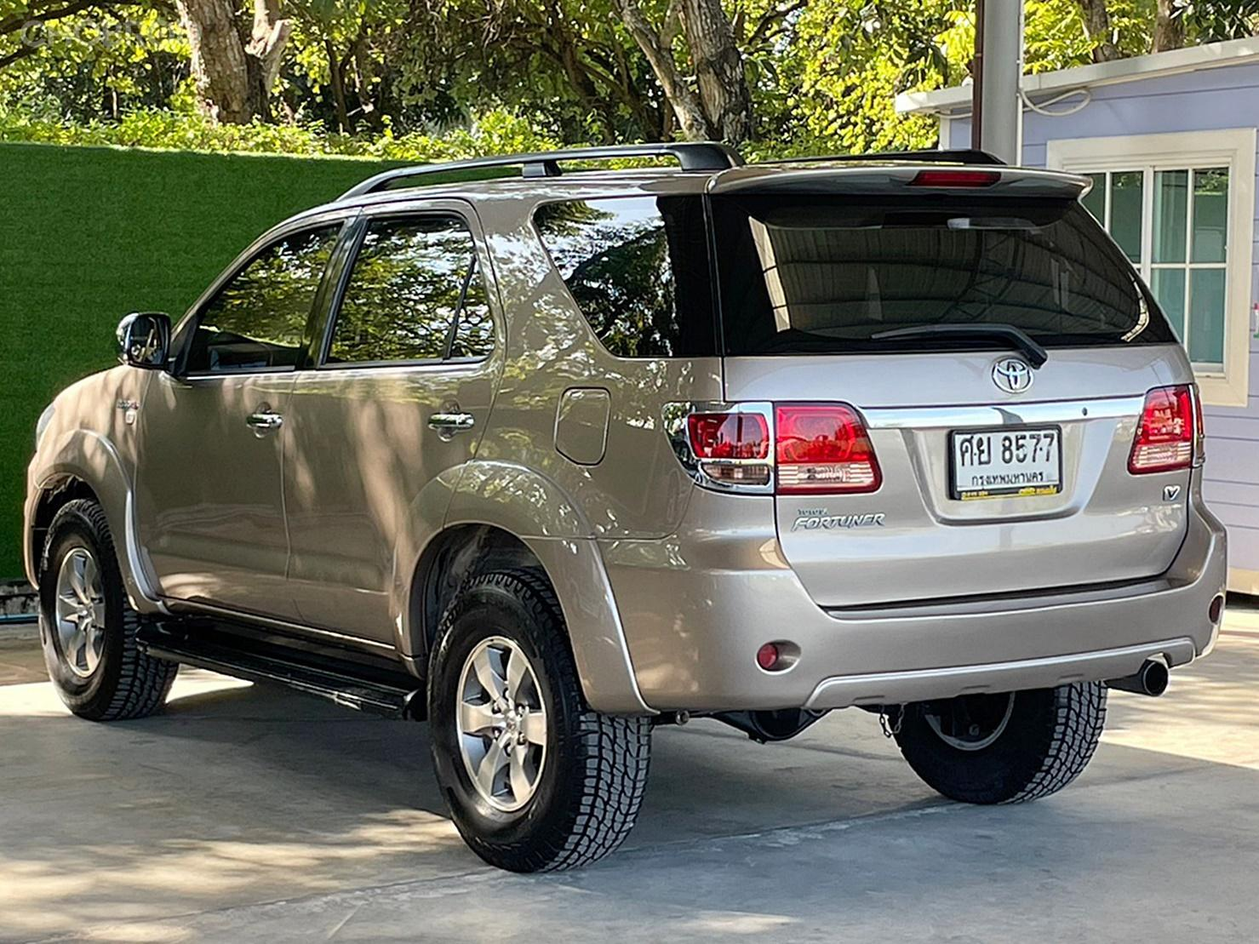license-plate: (945, 419, 1071, 501)
